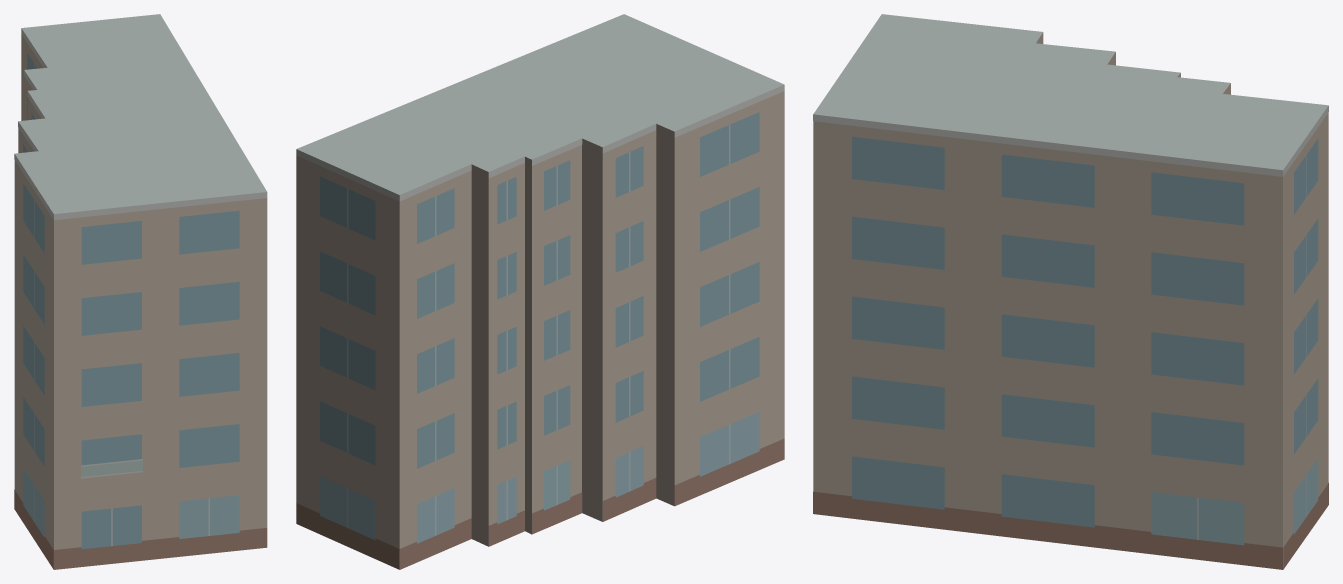
File: survey-upis-32708878.glb
The picture shows the model from 3 angles, left to right: view 1: azimuth 30°, elevation 25°; view 2: azimuth 150°, elevation 25°; view 3: azimuth 270°, elevation 25°; orthographic projection. The views are drawn at different scales.
Parts seen in each view (by area): view 1: survey-upis-32708878.tmp; view 2: survey-upis-32708878.tmp; view 3: survey-upis-32708878.tmp.
Boxes of the visible parts, box(x1,y1,x2,y2) form: survey-upis-32708878.tmp: box(14, 14, 267, 569); survey-upis-32708878.tmp: box(296, 14, 784, 569); survey-upis-32708878.tmp: box(813, 14, 1328, 569).
Size of the model in its own units: 12.17 by 14.5 by 16.97.
